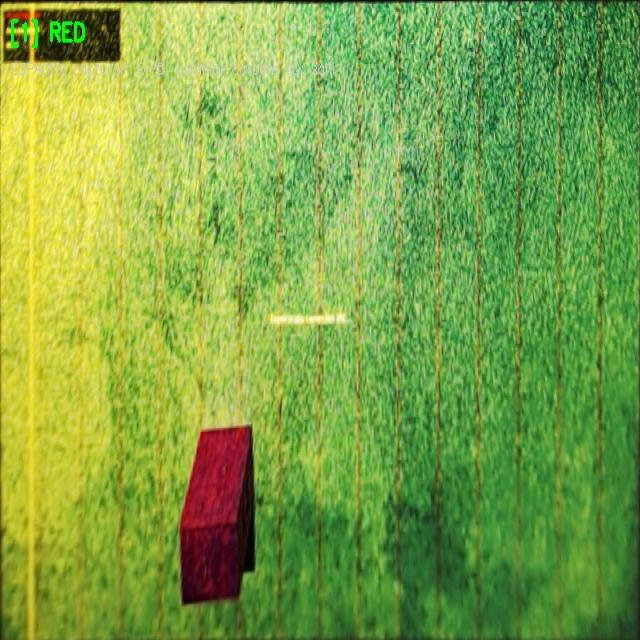red: (180, 427, 254, 603)
